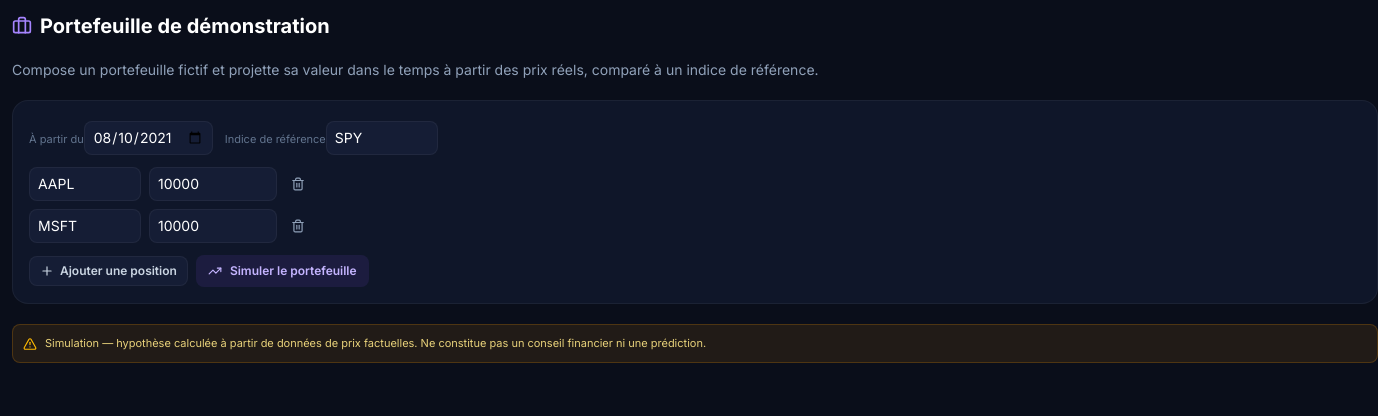
Test case: DemoPortfolioPanel › signale l'absence de position valide sans appeler l'historique
Clear the field named "Symbole position 1" at (85, 184), box left=29, top=167, right=141, bottom=201
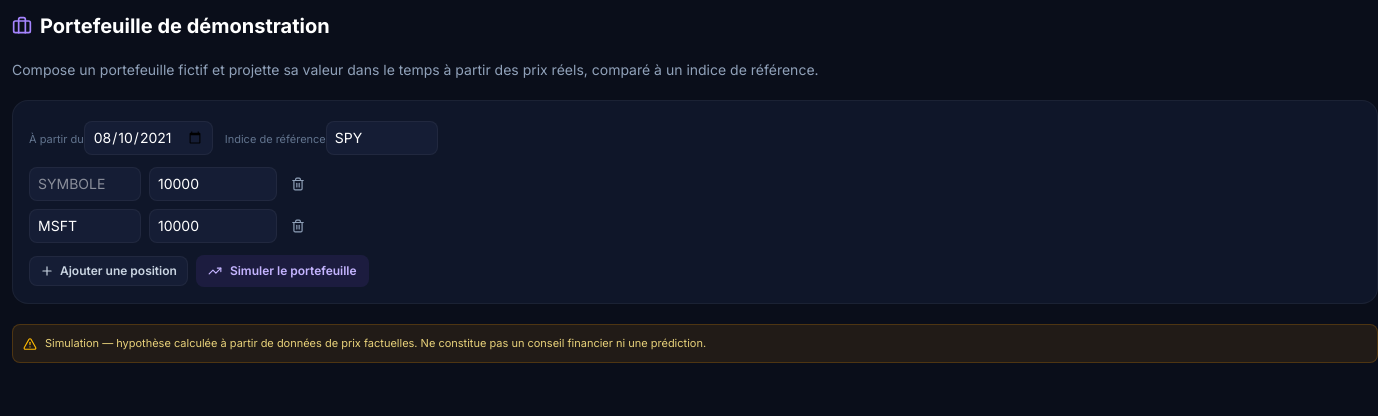
Clear the field named "Symbole position 2" at (85, 226), box left=29, top=209, right=141, bottom=243
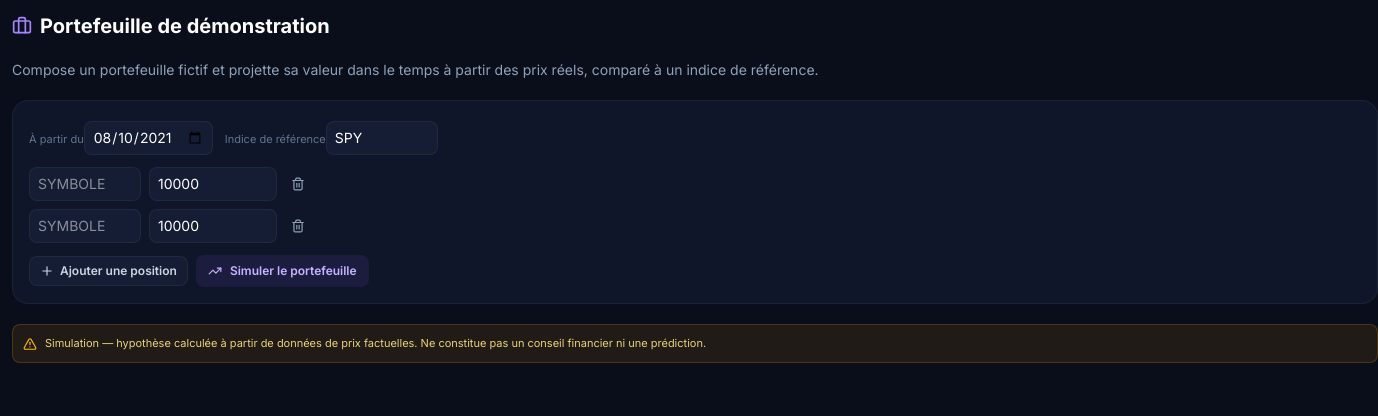
Click the button "Simuler le portefeuille".
click(282, 271)  # box left=196, top=255, right=369, bottom=287
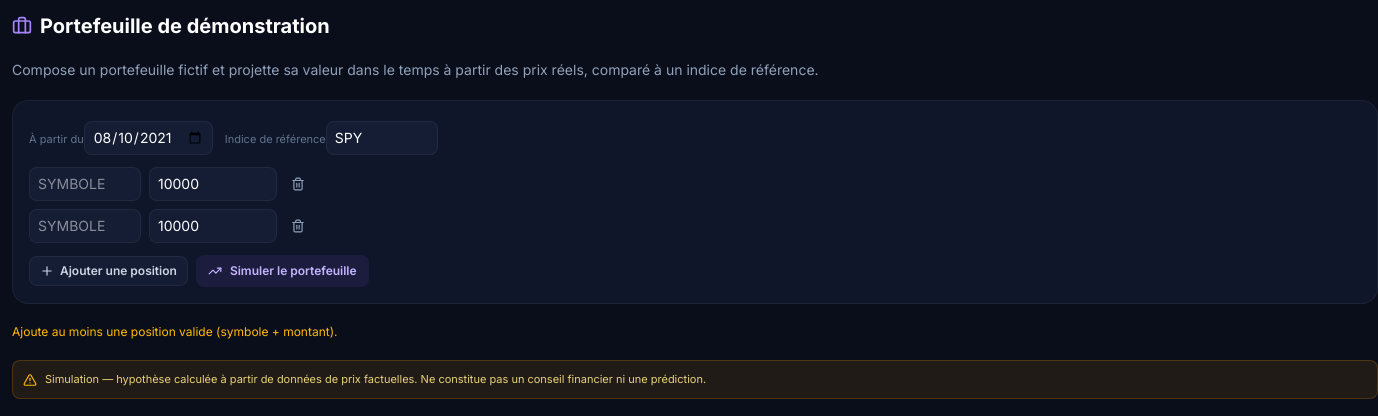
Expected: the text "Ajoute au moins une position valide (symbole + montant)." is shown, left=12, top=324, right=338, bottom=339
